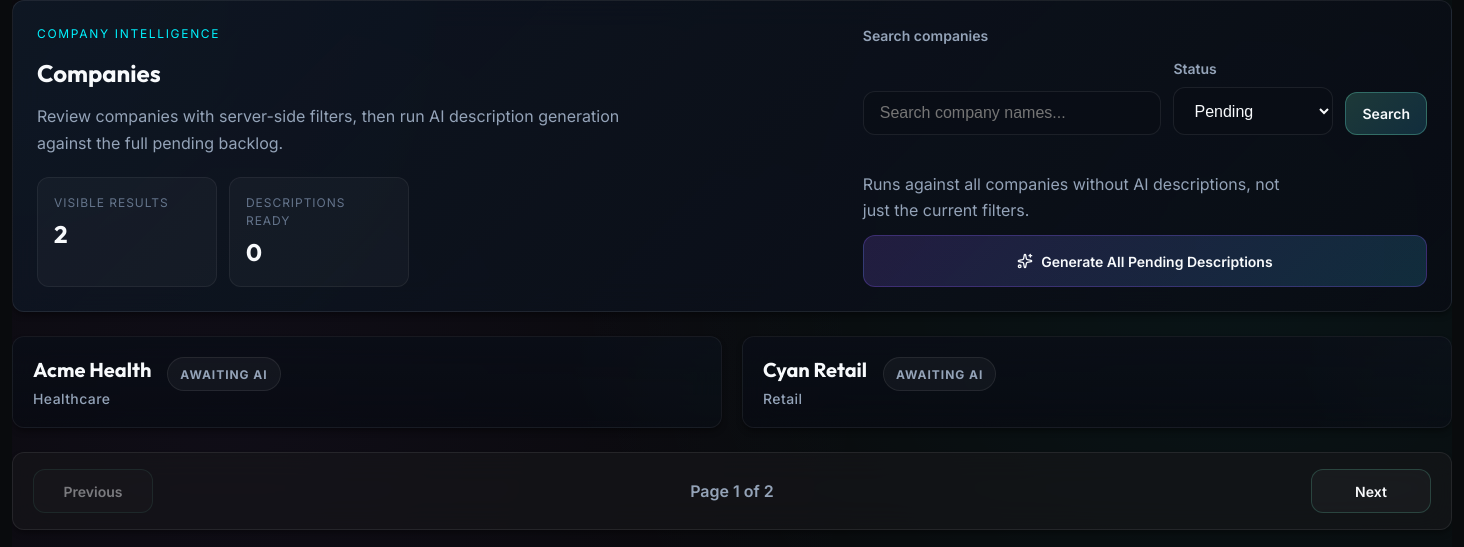
it: CompaniesPage › keeps the active filters while paginating
This screenshot has width=1464, height=547.
Expected: the heading "Acme Health" is shown, [33,357,151,382]
Click the button with aria-label "next page" at coordinates (1371, 491), box [1311,469,1431,513]
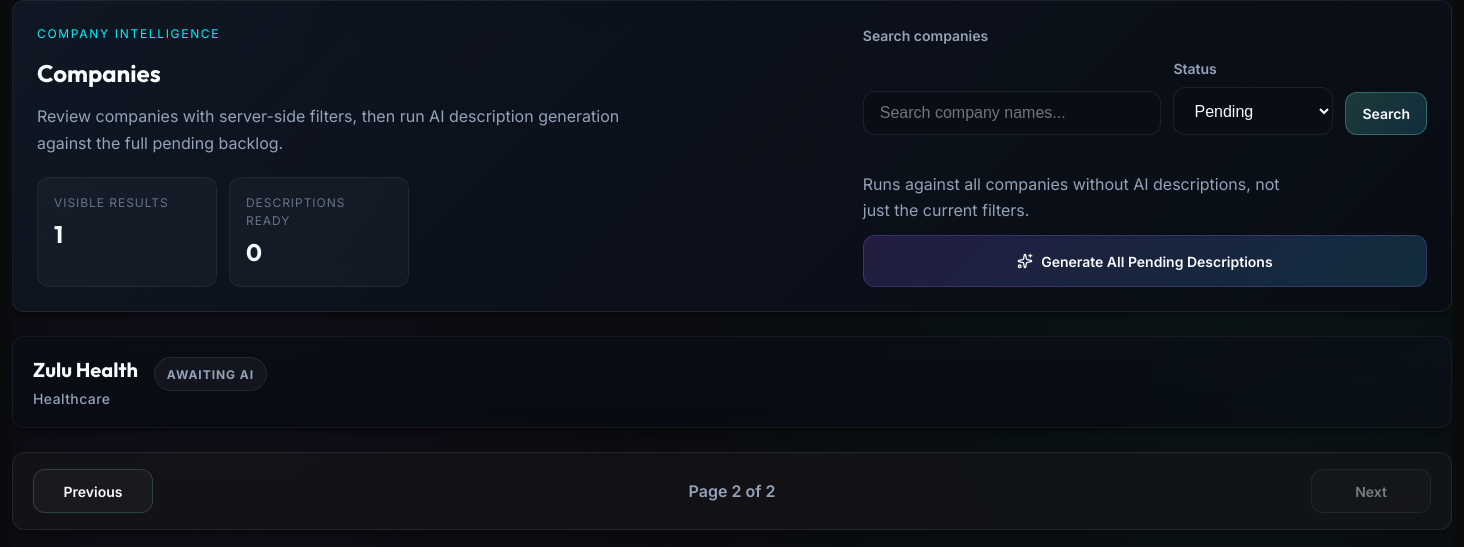
Result: the heading "Zulu Health" is shown at [33,357,138,382]
Result: the text "Page 2 of 2" is shown at [689,479,775,503]
